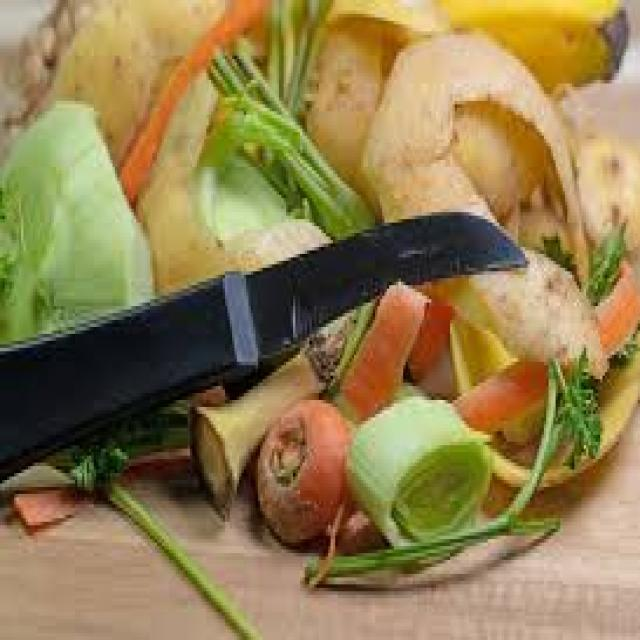Organik: (204, 27, 397, 228), (343, 378, 515, 574), (182, 383, 355, 568)
